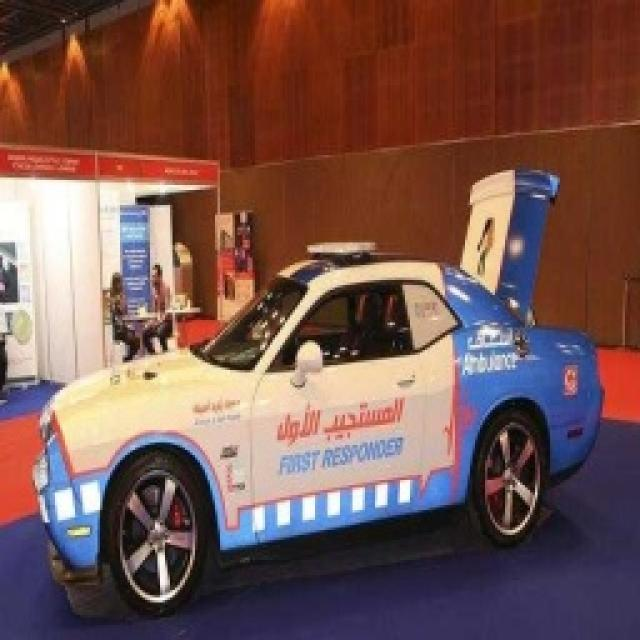ambulance: (18, 240, 638, 620)
